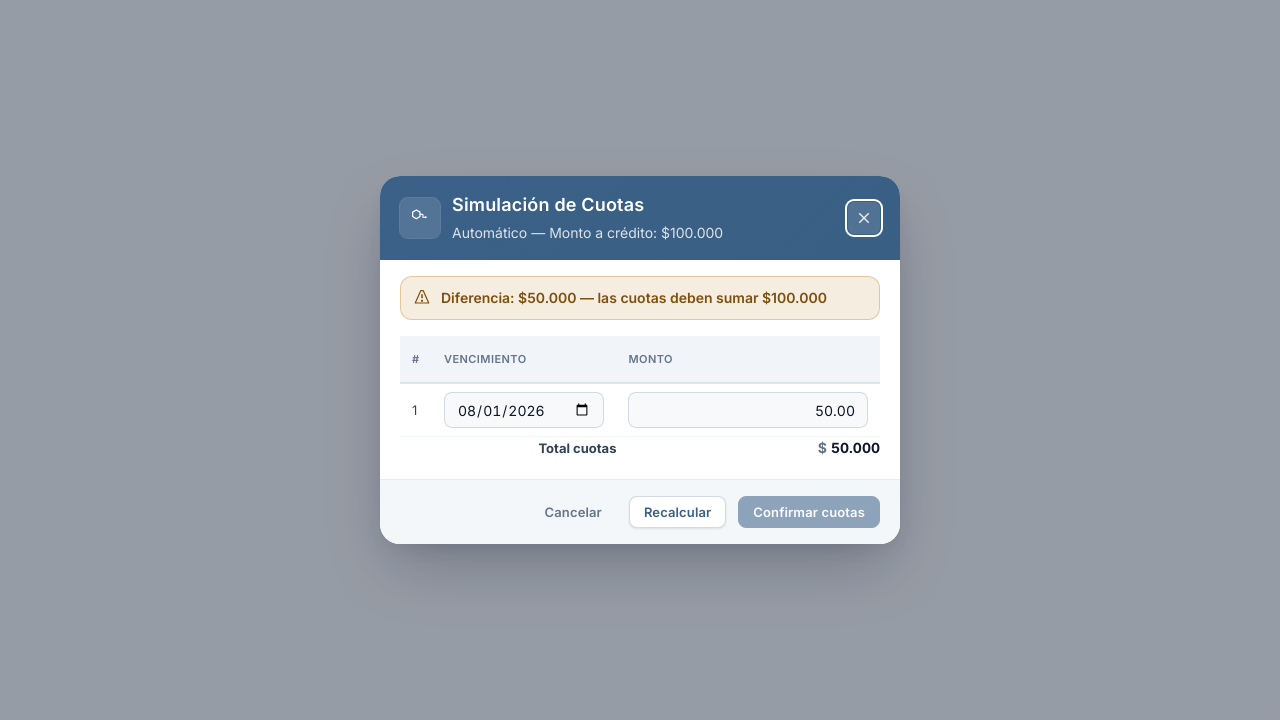
Scenario: CreditSimulatorModal — defaultValue canónico (04G) › policy A→B sin remount: no reescribe el texto; la siguiente edición usa la escala B
The width and height of the screenshot is (1280, 720).
Step 1. Replace the text in the field with class "zh-numeric-input" with "12.5" → (748, 410), box left=628, top=392, right=868, bottom=428
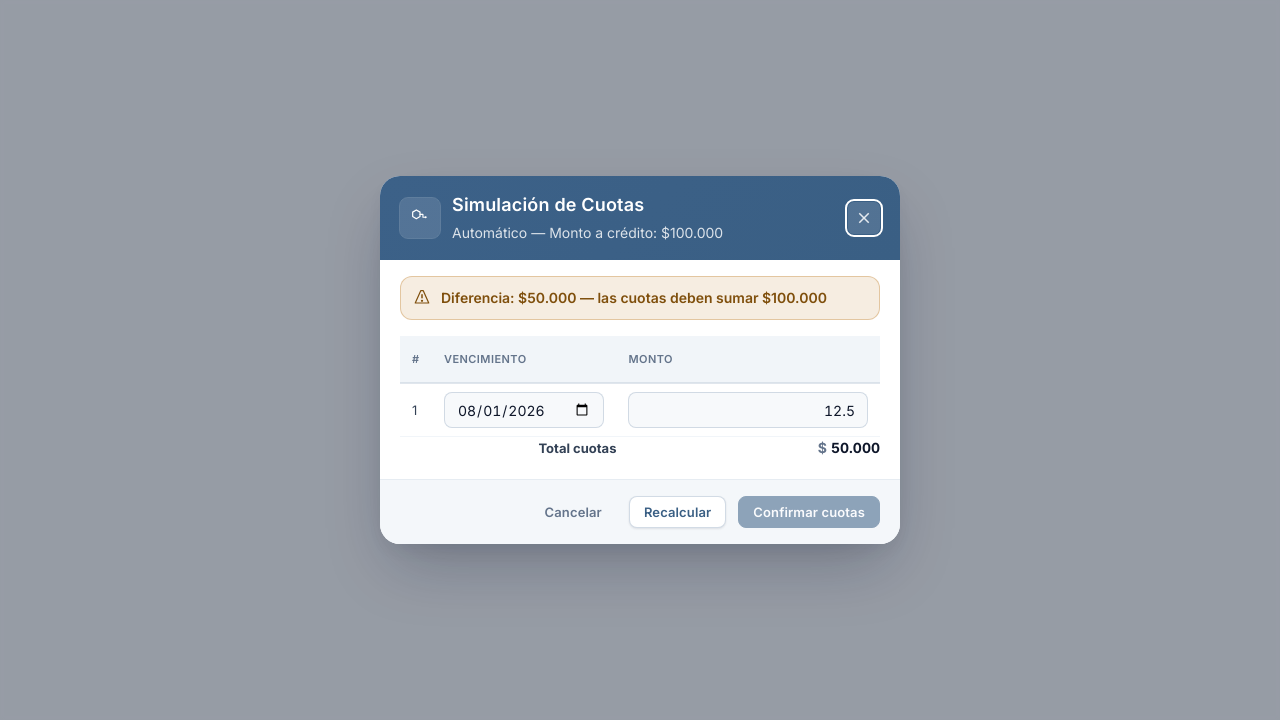
Step 2. Leave the field with class "zh-numeric-input", box left=628, top=392, right=868, bottom=428
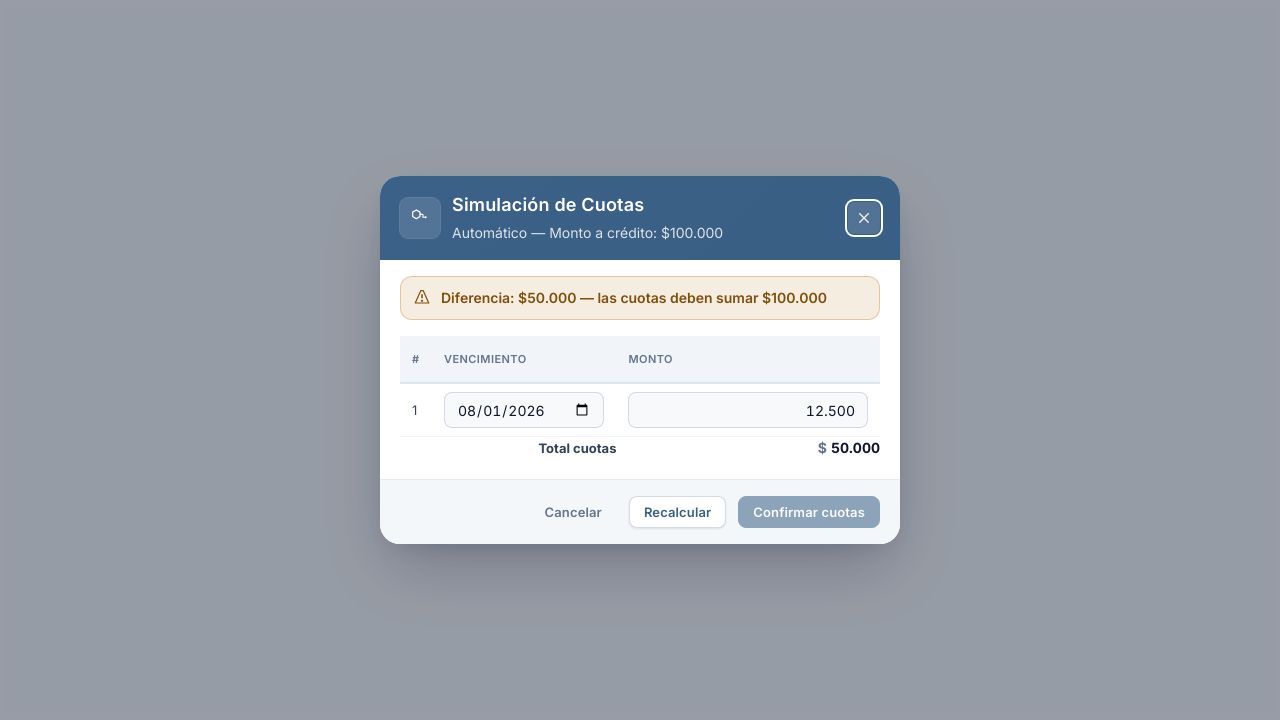
Now the field with class "zh-numeric-input" holds "12.500", box left=628, top=392, right=868, bottom=428
